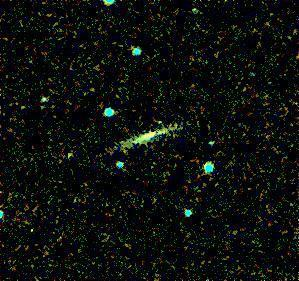star: (13, 214, 43, 244)
